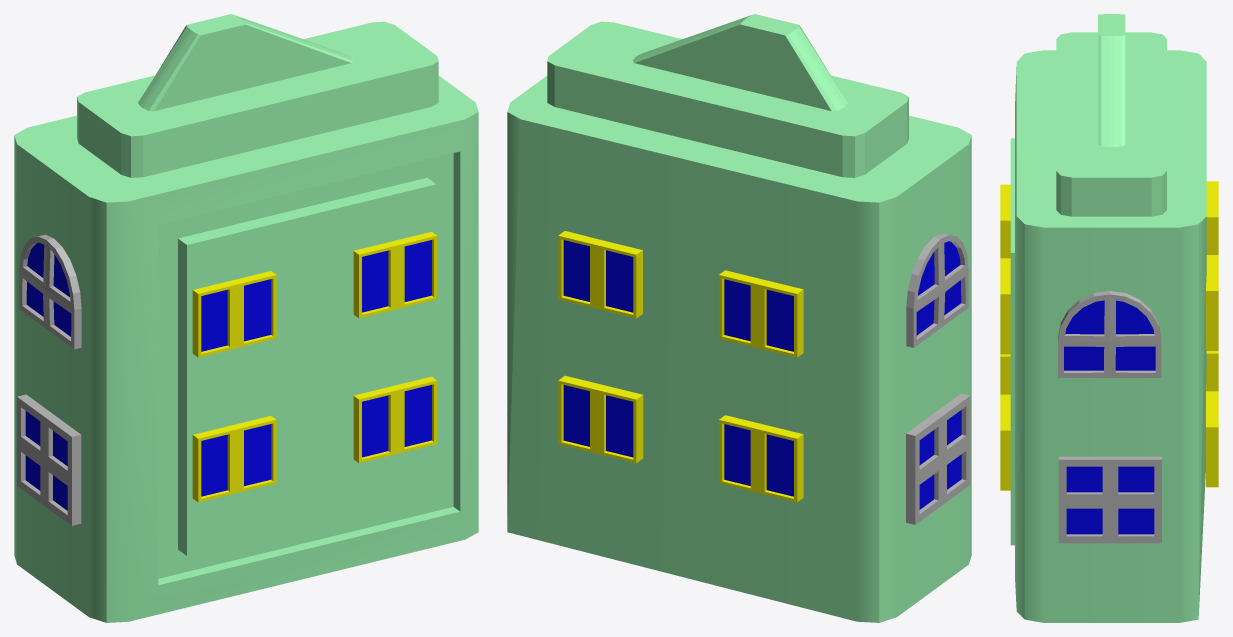
3 renders of one model, left to right at view 1: azimuth 30°, elevation 25°; view 2: azimuth 150°, elevation 25°; view 3: azimuth 270°, elevation 25°, orthographic. The views are drawn at different scales.
Visible parts, largest first — view 1: pCube78, pCube139, pCube6, pCube101, pCube103, pCube102, pCube138; view 2: pCube78, pCube139, pCube105, pCube104, pCube106, pCube107, pCube138; view 3: pCube78, pCube100, pCube99, pCube105, pCube104, pCube101, pCube102, pCube106, pCube6, pCube107, pCube103.
Boxes of the visible parts, x1,y1,x2,y2 form: pCube78: [14, 14, 478, 622]; pCube139: [17, 394, 81, 525]; pCube6: [192, 271, 276, 357]; pCube101: [353, 231, 437, 318]; pCube103: [192, 416, 276, 502]; pCube102: [353, 376, 437, 463]; pCube138: [19, 234, 81, 349]; pCube78: [507, 14, 971, 622]; pCube139: [906, 393, 970, 524]; pCube105: [558, 375, 643, 463]; pCube104: [558, 231, 642, 318]; pCube106: [719, 270, 803, 357]; pCube107: [719, 415, 803, 502]; pCube138: [906, 233, 968, 347]; pCube78: [1010, 14, 1206, 622]; pCube100: [1058, 456, 1161, 543]; pCube99: [1058, 291, 1161, 377]; pCube105: [1206, 391, 1218, 487]; pCube104: [1206, 255, 1218, 350]; pCube101: [1000, 258, 1010, 354]; pCube102: [1000, 394, 1010, 490]; pCube106: [1206, 181, 1218, 254]; pCube6: [1000, 184, 1010, 258]; pCube107: [1206, 351, 1218, 391]; pCube103: [1000, 354, 1010, 394].
Bounding box in the file's own units: 3801 × 4724 × 1886.
